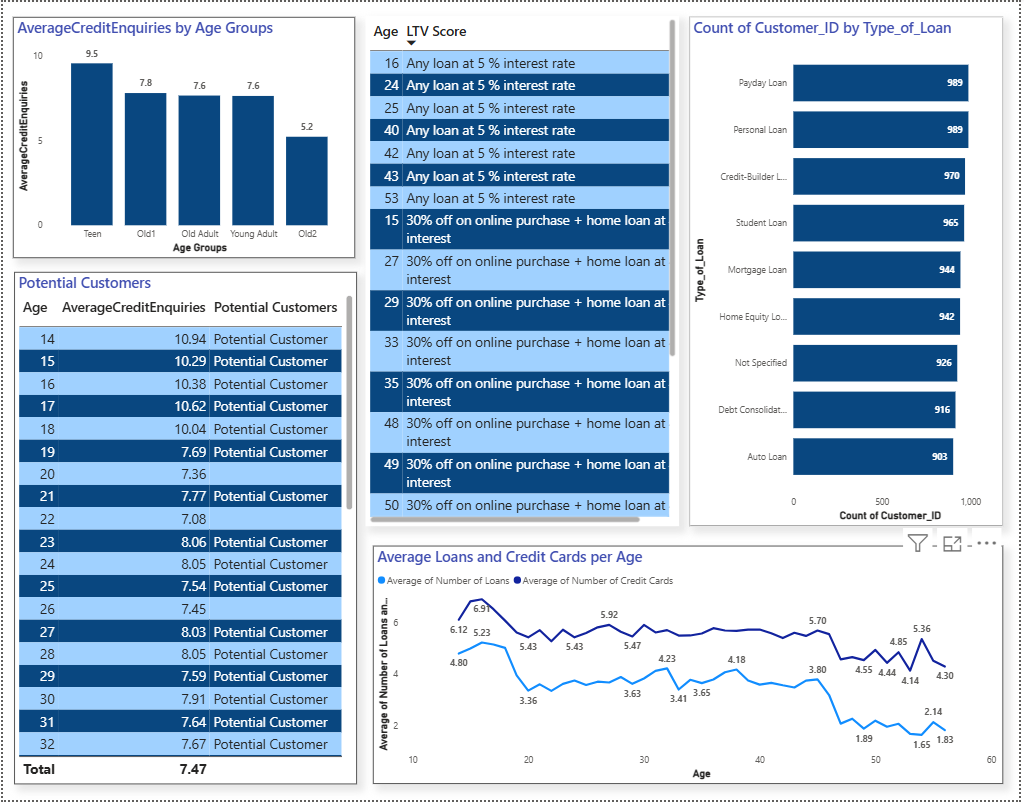

The page's visual inventory and layout, read from the dashboard file:
{"tool":"powerbi","page":{"name":"Page 2","canvas":[1400,1100],"ordinal":1},"visuals":[{"type":"clusteredColumnChart","fields":{"Category":["combined_df.Age Groups"],"Y":["Table.AverageCreditEnquiries"]},"box":[14.3,21.4,471.4,332.1],"z":0},{"type":"tableEx","title":"Potential Customers","fields":{"Values":["combined_df.Age","Table.AverageCreditEnquiries","Table.Potential Customers"]},"box":[14.8,372.2,472.2,705.6],"z":1000},{"type":"lineChart","title":"Average Loans and Credit Cards per Age","fields":{"Category":["combined_df.Age"],"Y":["Avg(combined_df.Number of Loans)","Avg(combined_df.Number of Credit Cards)"]},"box":[509.4,749.1,867.9,328.3],"z":2000},{"type":"tableEx","fields":{"Values":["combined_df.Age","Table.LTV Score"]},"box":[499.1,19.6,432.1,703.6],"z":3000},{"type":"clusteredBarChart","fields":{"Category":["combined_df (2).Type_of_Loan"],"Y":["Count(combined_df (2).Customer_ID)"]},"box":[944.6,21.4,432.1,701.8],"z":4000}]}

Visuals, with their boxes in screenshot pixels (x1, y1, x2, y2), scaled from the page's 1400x1100 canvas onto the 1024x803 screenshot:
clusteredColumnChart - combined_df.Age Groups x Table.AverageCreditEnquiries: 10,16,355,258
"Potential Customers" tableEx: 11,272,356,787
"Average Loans and Credit Cards per Age" lineChart: 373,547,1007,787
tableEx - combined_df.Age x Table.LTV Score: 365,14,681,528
clusteredBarChart - combined_df (2).Type_of_Loan x Count(combined_df (2).Customer_ID): 691,16,1007,528
